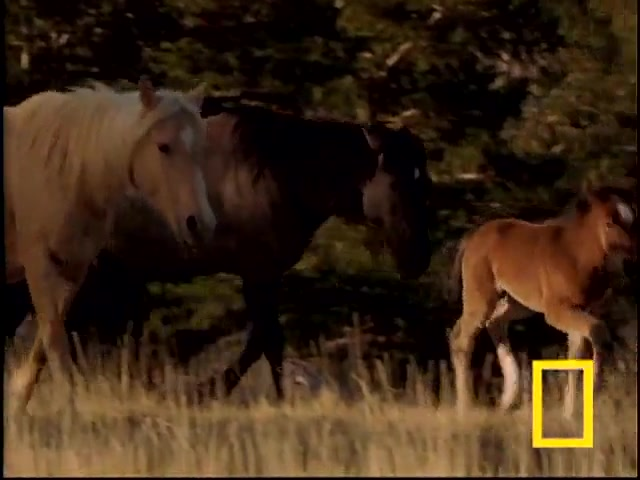horse: (3, 80, 212, 415)
